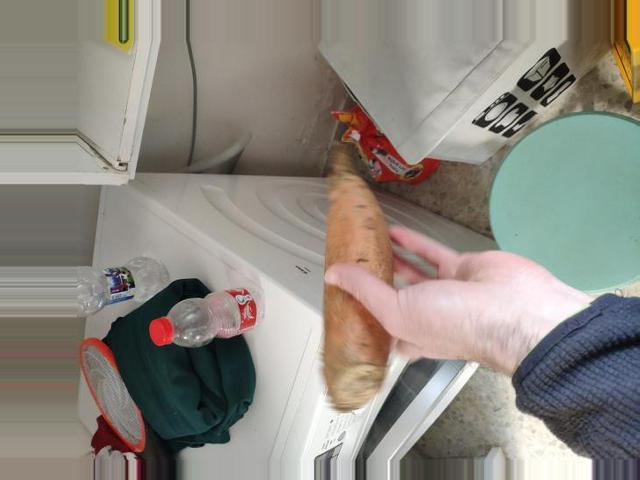sweet_potato: (323, 162, 391, 386)
